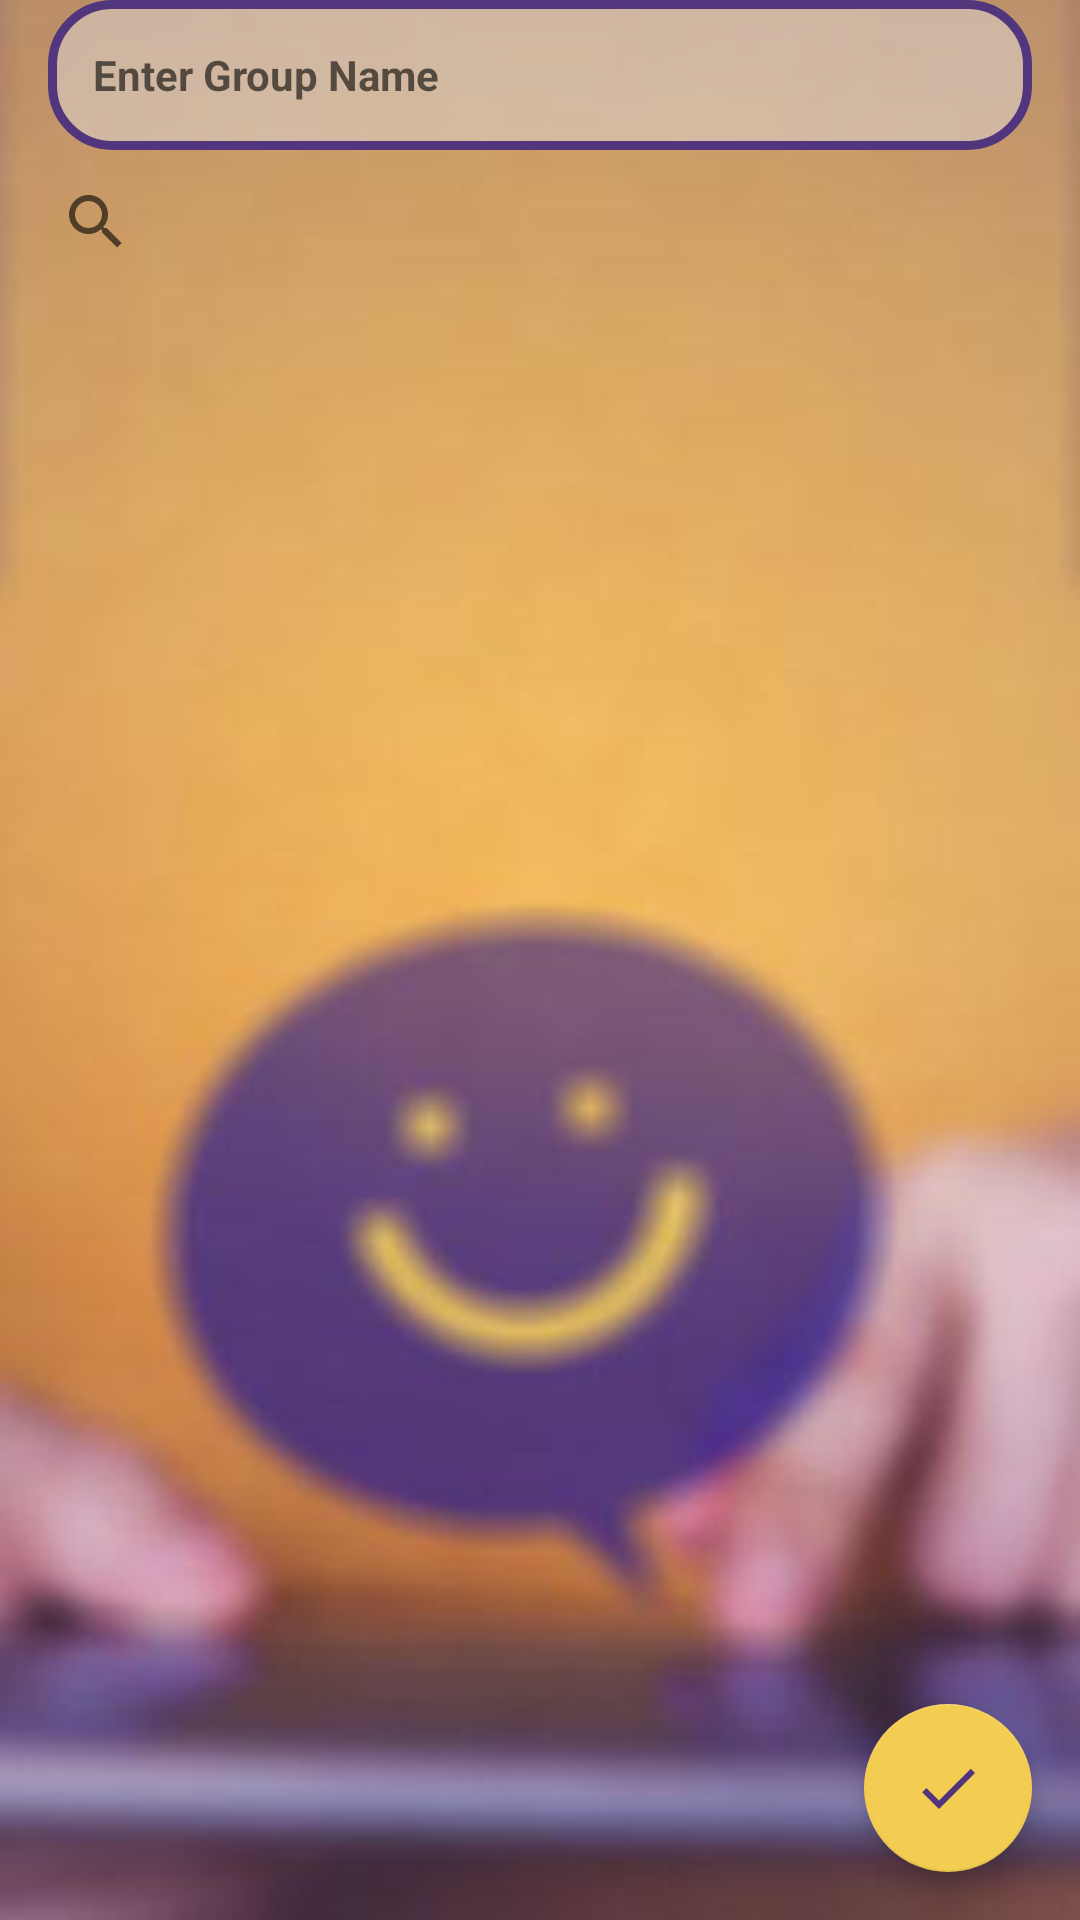

Icon click points for this 1080px x 1920px phone screenshot, format (x=x, y=y):
doneimage: (x=948, y=1788)
